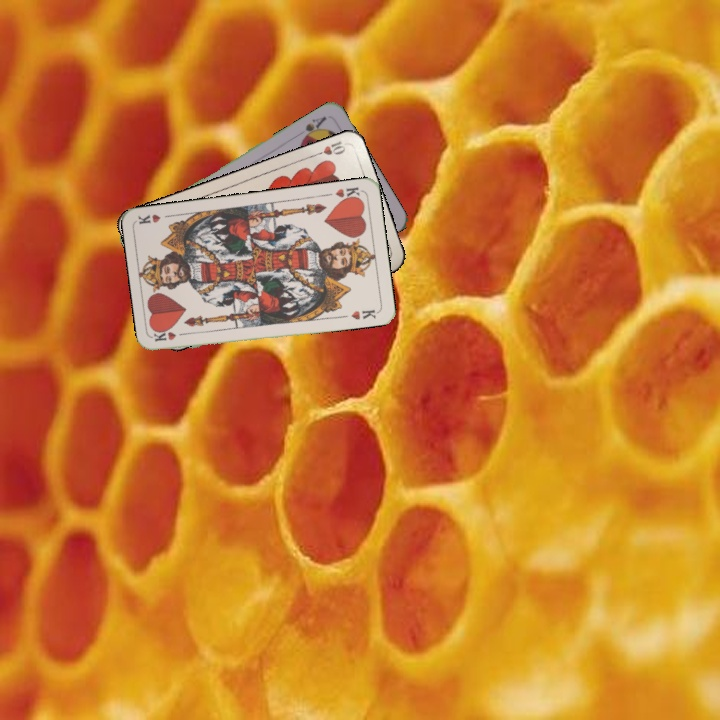H10: (309, 136, 349, 159)
HK: (323, 183, 363, 204), (151, 328, 192, 344)
SA: (297, 112, 329, 143)
